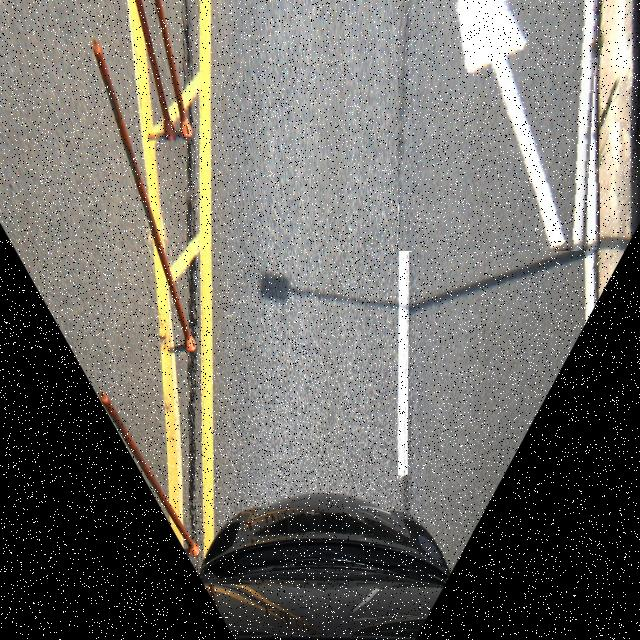chang_lane_left: (398, 0, 599, 251)
